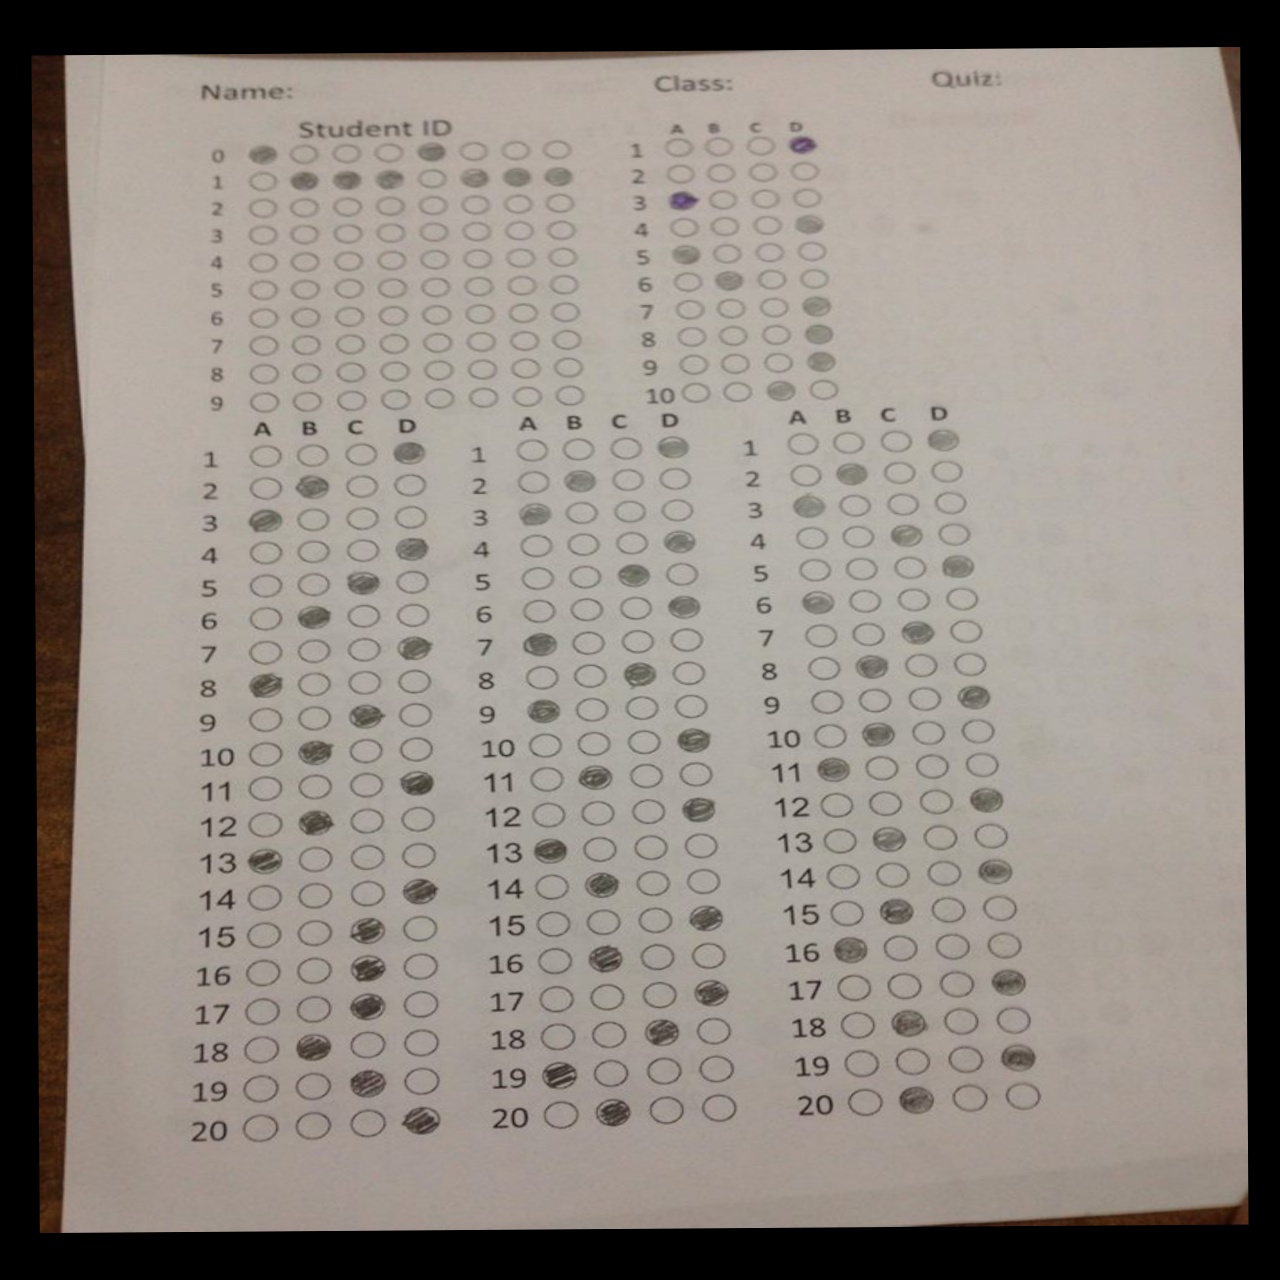not-c: (844, 1084, 885, 1118), (948, 1080, 989, 1114), (695, 1051, 735, 1085), (346, 1107, 387, 1139), (587, 1017, 628, 1050), (535, 1019, 576, 1051), (636, 979, 678, 1012), (1002, 1080, 1043, 1112), (930, 930, 971, 962), (238, 1111, 279, 1143), (538, 1098, 579, 1130), (644, 1092, 685, 1124), (535, 981, 576, 1013), (993, 1003, 1034, 1035), (878, 931, 919, 962), (644, 1054, 683, 1085), (587, 980, 627, 1012), (937, 967, 976, 999), (290, 1110, 331, 1141), (696, 1092, 737, 1123), (693, 1015, 734, 1046), (587, 1056, 628, 1087), (939, 1006, 980, 1036), (881, 971, 922, 1001), (982, 928, 1023, 959), (979, 892, 1020, 922), (243, 919, 282, 949), (624, 726, 663, 756), (617, 625, 656, 655), (945, 1043, 985, 1074), (347, 840, 386, 871), (347, 878, 386, 908), (240, 1073, 279, 1103), (687, 939, 726, 969), (533, 946, 572, 976), (583, 906, 621, 937), (530, 870, 568, 900), (627, 796, 666, 826), (573, 728, 612, 758), (621, 693, 660, 723), (668, 658, 707, 688), (567, 627, 606, 658), (617, 592, 655, 622), (517, 563, 556, 593), (564, 527, 602, 558), (515, 530, 553, 560), (925, 858, 964, 888), (243, 881, 282, 911), (527, 799, 567, 829), (631, 832, 670, 862), (568, 660, 608, 689), (663, 626, 703, 655), (891, 1044, 931, 1074), (293, 915, 331, 946), (626, 761, 663, 791), (519, 595, 557, 626), (399, 840, 437, 870), (295, 843, 334, 872), (400, 951, 438, 980), (293, 956, 332, 986), (241, 956, 280, 986), (241, 996, 280, 1026), (293, 994, 332, 1023), (401, 988, 440, 1017), (401, 1028, 440, 1057), (347, 1029, 386, 1058), (241, 1034, 280, 1063), (292, 1070, 331, 1099), (401, 1065, 440, 1095), (636, 941, 675, 971), (532, 907, 571, 937), (634, 905, 673, 934), (633, 869, 672, 898), (681, 866, 720, 896), (576, 798, 614, 828), (681, 831, 720, 860), (676, 758, 715, 788), (527, 764, 566, 794), (524, 730, 563, 760), (670, 692, 709, 721), (570, 694, 608, 723), (565, 593, 604, 622), (564, 560, 602, 590), (661, 559, 700, 588), (837, 1010, 876, 1040), (840, 1048, 879, 1077), (927, 893, 966, 922), (871, 859, 910, 888), (921, 823, 960, 852), (522, 663, 561, 692), (610, 527, 649, 556), (294, 879, 332, 908), (581, 833, 619, 863), (399, 914, 437, 942), (971, 821, 1009, 849), (293, 570, 331, 598), (392, 599, 429, 627), (244, 772, 281, 801), (245, 810, 282, 838), (835, 489, 872, 517), (884, 489, 921, 517), (837, 520, 874, 549), (795, 554, 832, 583), (847, 618, 885, 646), (810, 721, 847, 749), (915, 787, 953, 815), (346, 736, 384, 763), (782, 429, 821, 456), (888, 553, 927, 580), (949, 649, 988, 676), (815, 790, 853, 817), (247, 571, 284, 599), (610, 465, 646, 493), (512, 436, 549, 464), (784, 459, 821, 488), (791, 523, 828, 551), (900, 651, 937, 679), (964, 750, 1000, 778), (826, 898, 863, 926), (392, 568, 429, 595), (343, 601, 381, 628), (245, 602, 282, 629), (245, 639, 282, 666), (293, 636, 331, 663), (343, 635, 381, 662), (345, 668, 382, 695), (395, 667, 433, 694), (395, 700, 433, 727), (395, 734, 433, 761), (345, 771, 382, 798), (347, 806, 384, 833), (397, 804, 435, 831), (561, 498, 599, 525), (610, 497, 647, 524), (557, 435, 594, 462), (605, 435, 642, 462), (829, 429, 866, 456), (876, 428, 913, 455), (931, 488, 968, 515), (934, 520, 972, 547), (799, 621, 837, 648), (840, 554, 878, 581), (806, 687, 844, 714), (855, 686, 892, 713), (905, 685, 942, 712), (908, 719, 946, 745), (958, 717, 995, 744), (862, 753, 899, 779), (823, 862, 860, 888), (294, 669, 331, 696), (294, 704, 331, 731), (246, 704, 282, 731), (246, 738, 282, 765), (294, 772, 331, 799), (658, 496, 694, 523), (655, 464, 692, 491), (512, 468, 549, 495), (879, 458, 915, 485), (927, 456, 964, 483), (845, 587, 881, 614), (896, 586, 932, 613), (942, 583, 979, 610), (947, 617, 983, 644), (804, 654, 840, 681), (913, 753, 949, 779), (866, 789, 903, 816), (819, 826, 856, 853), (833, 973, 870, 1000), (292, 506, 329, 532), (246, 474, 281, 501), (292, 442, 328, 468), (392, 503, 428, 529), (246, 539, 282, 565), (343, 440, 377, 467), (247, 442, 282, 468), (392, 470, 427, 496), (343, 504, 379, 530), (343, 536, 379, 561), (295, 537, 331, 563), (244, 250, 278, 275), (246, 332, 280, 358), (246, 389, 280, 415), (288, 331, 322, 356), (286, 275, 320, 301), (286, 248, 320, 274), (329, 139, 363, 165), (285, 139, 319, 165), (497, 137, 531, 163), (331, 275, 365, 301), (332, 331, 366, 356), (377, 386, 411, 411), (375, 331, 409, 356), (373, 275, 407, 301), (421, 384, 455, 410), (343, 474, 377, 499), (540, 190, 576, 215), (464, 384, 499, 409), (244, 169, 277, 195), (244, 195, 277, 220), (245, 275, 278, 301), (245, 305, 278, 331), (288, 305, 321, 331), (246, 360, 280, 384), (286, 222, 320, 246), (286, 195, 320, 219), (329, 222, 363, 246), (456, 138, 490, 163), (413, 165, 447, 190), (372, 195, 406, 219), (543, 217, 577, 241), (332, 302, 366, 327), (332, 359, 366, 383), (377, 358, 411, 382), (375, 302, 409, 327), (373, 246, 407, 271), (418, 302, 452, 327), (418, 329, 452, 354), (421, 356, 455, 381), (549, 326, 583, 350), (456, 192, 491, 216), (501, 218, 536, 241), (329, 248, 365, 272), (504, 300, 539, 324), (457, 219, 493, 241), (244, 222, 277, 246), (290, 360, 322, 384), (369, 138, 402, 163), (499, 190, 532, 215), (417, 246, 450, 271), (547, 272, 580, 297), (552, 381, 585, 406), (287, 388, 321, 411), (327, 193, 361, 217), (538, 136, 572, 159), (332, 388, 366, 411), (417, 273, 451, 297), (459, 245, 493, 268), (504, 273, 538, 297), (502, 244, 536, 267), (543, 245, 577, 268), (549, 299, 583, 322), (550, 354, 584, 377), (659, 135, 693, 158), (672, 297, 706, 320), (372, 220, 407, 243), (461, 302, 496, 325), (750, 240, 785, 263), (415, 192, 448, 216), (508, 358, 540, 381), (794, 238, 826, 261), (675, 352, 708, 375), (459, 274, 493, 297), (505, 328, 539, 350), (700, 135, 734, 157), (743, 132, 777, 155), (663, 162, 697, 184), (745, 161, 779, 183), (707, 213, 741, 236), (709, 241, 743, 264), (753, 267, 787, 290), (669, 270, 703, 292), (676, 380, 710, 402), (719, 380, 753, 402), (716, 352, 750, 374), (714, 324, 748, 346), (805, 377, 839, 400), (415, 220, 450, 241), (461, 329, 496, 350), (463, 356, 498, 377), (509, 384, 542, 407), (704, 161, 737, 183), (788, 158, 821, 181), (749, 188, 782, 210), (667, 215, 700, 237), (795, 267, 828, 290), (673, 324, 706, 346), (713, 297, 745, 319), (760, 322, 792, 345), (789, 186, 823, 207), (704, 188, 738, 209), (749, 213, 783, 234), (755, 295, 789, 316), (760, 350, 794, 372)
taken-c: (588, 1096, 633, 1130), (535, 1058, 579, 1092), (399, 1103, 441, 1137), (343, 990, 387, 1022), (288, 1030, 332, 1062), (346, 1067, 389, 1098), (345, 952, 388, 982), (974, 856, 1014, 888), (887, 1007, 928, 1039), (676, 794, 717, 825), (855, 717, 896, 749), (619, 658, 660, 689), (689, 978, 729, 1009), (581, 869, 621, 900), (869, 823, 908, 855), (639, 1016, 680, 1047), (894, 1083, 935, 1114), (986, 966, 1027, 996), (874, 896, 915, 926), (527, 835, 568, 865), (573, 762, 614, 792), (672, 724, 713, 755), (520, 628, 561, 659), (399, 874, 438, 905), (998, 1042, 1037, 1073), (585, 942, 625, 973), (965, 783, 1005, 813), (813, 753, 853, 783), (243, 846, 284, 876), (685, 903, 726, 932), (520, 696, 561, 726), (346, 915, 386, 945), (830, 934, 870, 964), (924, 425, 964, 455), (395, 768, 436, 796), (937, 551, 975, 580), (886, 520, 925, 550), (831, 459, 870, 489), (788, 491, 828, 519), (244, 506, 282, 535), (662, 592, 701, 620), (612, 560, 651, 588), (659, 526, 697, 554), (515, 499, 553, 527), (952, 682, 990, 710), (850, 653, 888, 681), (897, 618, 935, 646), (797, 587, 836, 615), (559, 467, 598, 495), (345, 702, 384, 729), (293, 738, 333, 765), (342, 568, 381, 595), (293, 602, 332, 629), (294, 809, 333, 836), (390, 535, 428, 561), (388, 440, 425, 467), (393, 634, 431, 660), (245, 672, 284, 697), (654, 434, 692, 459), (292, 474, 329, 499), (456, 164, 492, 189), (798, 320, 835, 345), (285, 168, 320, 192), (762, 377, 797, 402), (665, 241, 701, 265), (244, 142, 279, 165), (413, 139, 448, 163), (497, 164, 532, 188), (540, 164, 576, 188), (326, 168, 361, 191), (709, 268, 744, 292), (802, 348, 837, 372), (789, 212, 825, 234), (798, 294, 835, 316), (372, 168, 406, 191), (663, 188, 697, 211), (784, 132, 819, 155)
